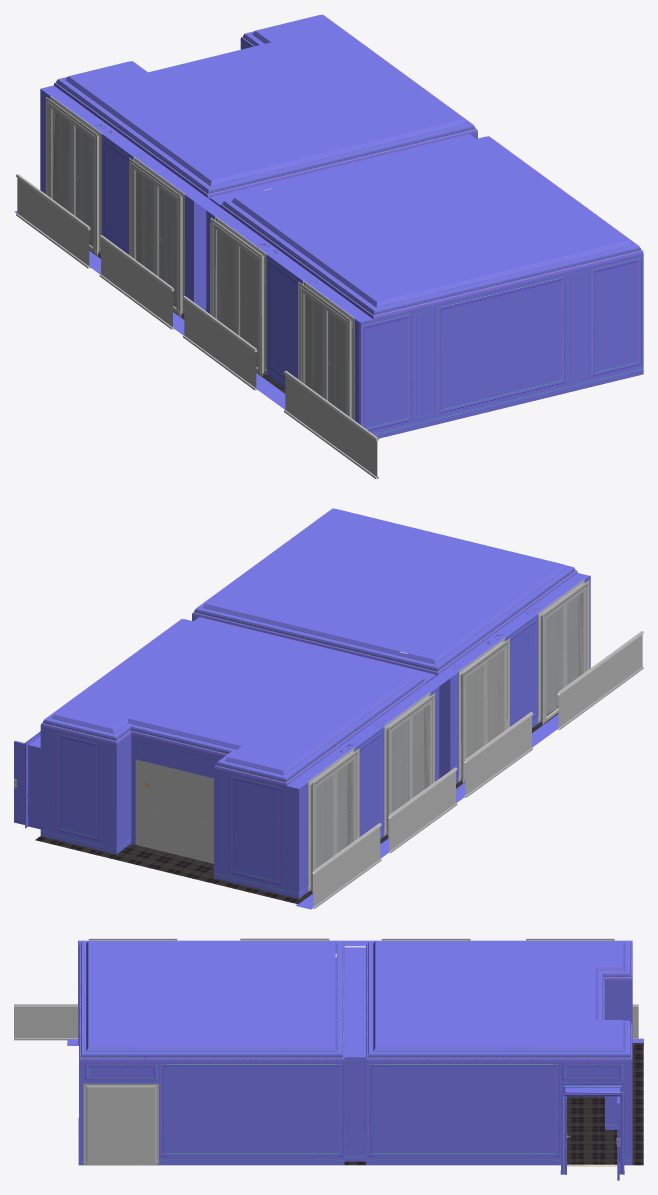
The model's file is SCP_SalonChoppin.fbx.
3 views of the same model, one above another, from view 1: azimuth 30°, elevation 25°; view 2: azimuth 150°, elevation 25°; view 3: azimuth 270°, elevation 25° (orthographic). The views are drawn at different scales.
Parts seen in each view (by area): view 1: SCP_SalonChoppin:polySurface20, SCP_SalonChoppin:polySurface100, SCP_SalonChoppin:polySurface15; view 2: SCP_SalonChoppin:polySurface20, SCP_SalonChoppin:polySurface100, SCP_SalonChoppin:polySurface15; view 3: SCP_SalonChoppin:polySurface20, SCP_SalonChoppin:polySurface100.
Part boxes in pixels (x1=…): SCP_SalonChoppin:polySurface20: x1=14, y1=15, x2=643, y2=479; SCP_SalonChoppin:polySurface100: x1=54, y1=14, x2=643, y2=319; SCP_SalonChoppin:polySurface15: x1=52, y1=109, x2=345, y2=413; SCP_SalonChoppin:polySurface20: x1=14, y1=508, x2=643, y2=909; SCP_SalonChoppin:polySurface100: x1=40, y1=508, x2=577, y2=785; SCP_SalonChoppin:polySurface15: x1=316, y1=591, x2=583, y2=868; SCP_SalonChoppin:polySurface20: x1=14, y1=938, x2=643, y2=1180; SCP_SalonChoppin:polySurface100: x1=79, y1=941, x2=632, y2=1060.
Size of the model in its own units: 858 by 323 by 1578.
